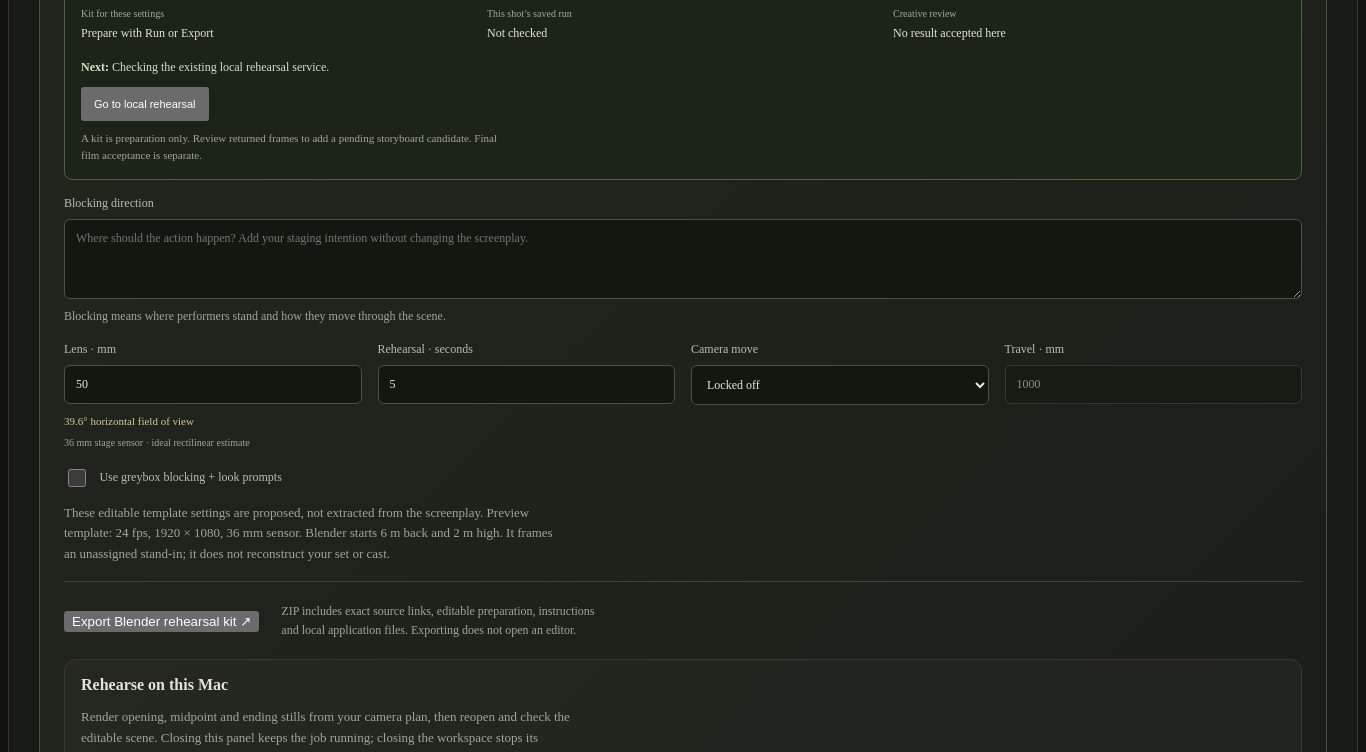
PreViz directing workflow › shows QiMovi preparation with exact field corrections instead of a generic checklist
(page scrolled)
Check: the button "Export Blender rehearsal kit ↗" is enabled, box [64,611,259,632]
Replace the text in the number field labelled "Rehearsal · seconds" with "0": point(526, 384) [378,365,675,404]
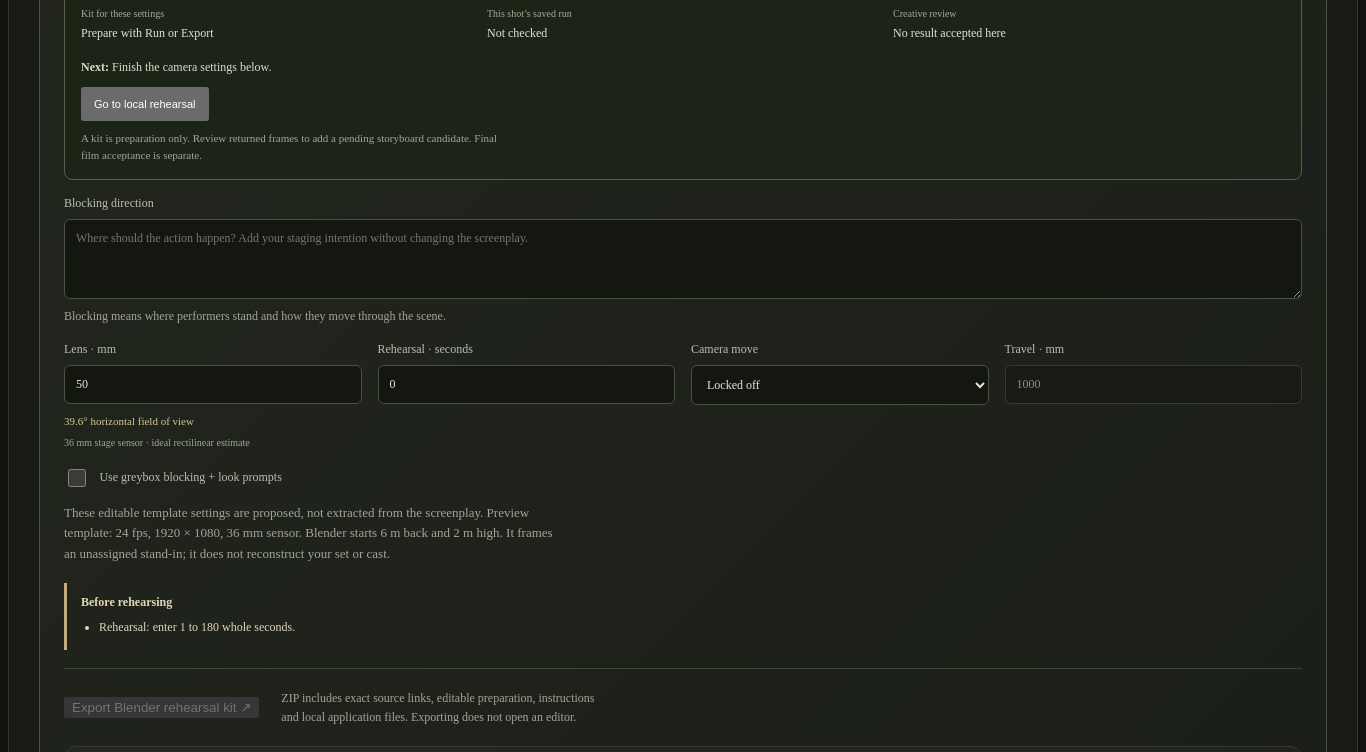
Check: the list item "Rehearsal: enter 1 to 180 whole seconds." is shown, box [99,620,295,634]
Check: the button "Export Blender rehearsal kit ↗" is disabled, box [64,697,259,718]
